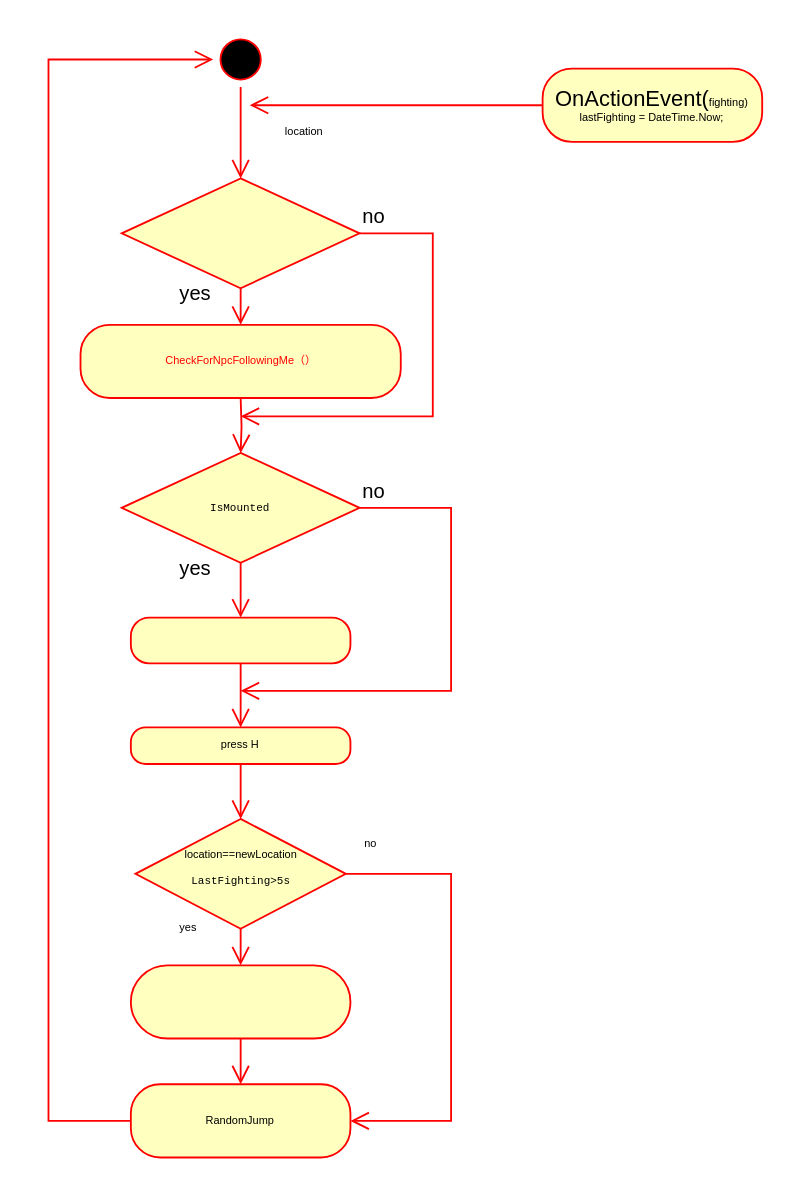
The diagram is 794 pixels wide and 1190 high, and some of its shapes have lost their labels. The centre of each missing label's shape, as x and y in pixels:
"LastFighting>10s" goes at (240,232).
"press Mount" goes at (239,639).
"press up down delay2000 press spacebar" goes at (239,1001).
